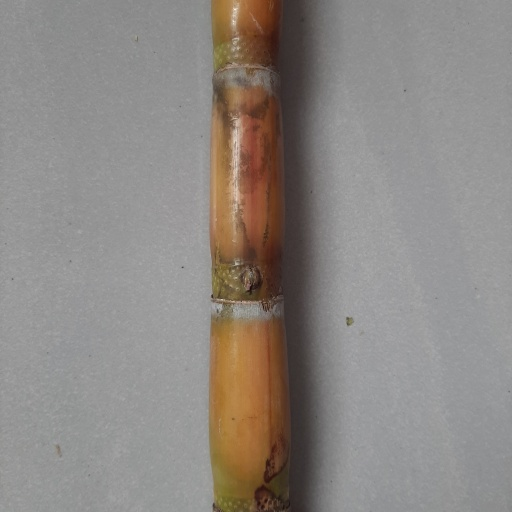Bud: (241, 263, 263, 294)
